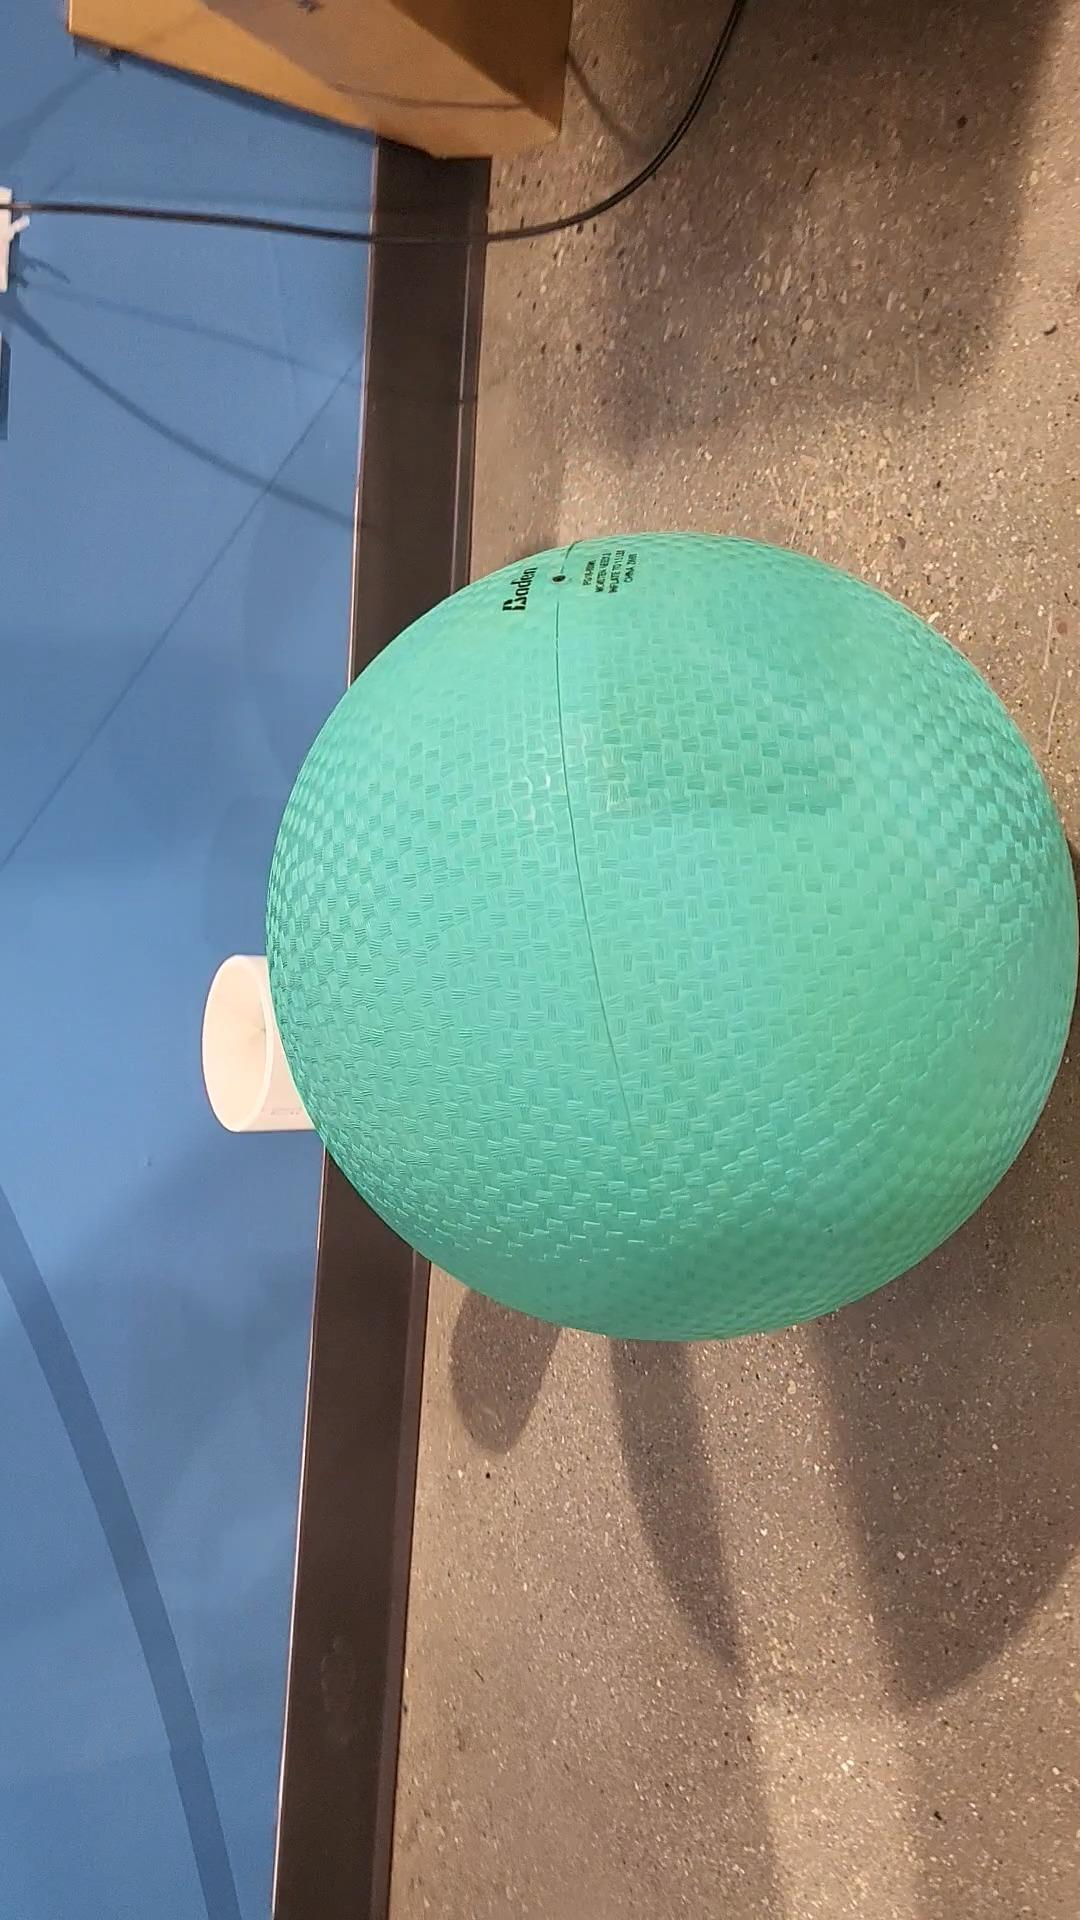algae: (262, 535, 1069, 1342)
coral: (207, 957, 310, 1130)
